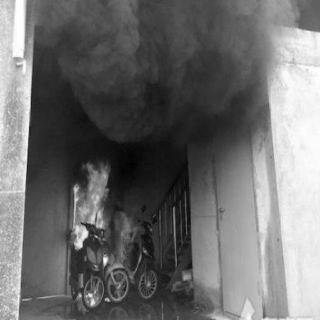Smoke: (39, 0, 279, 132)
